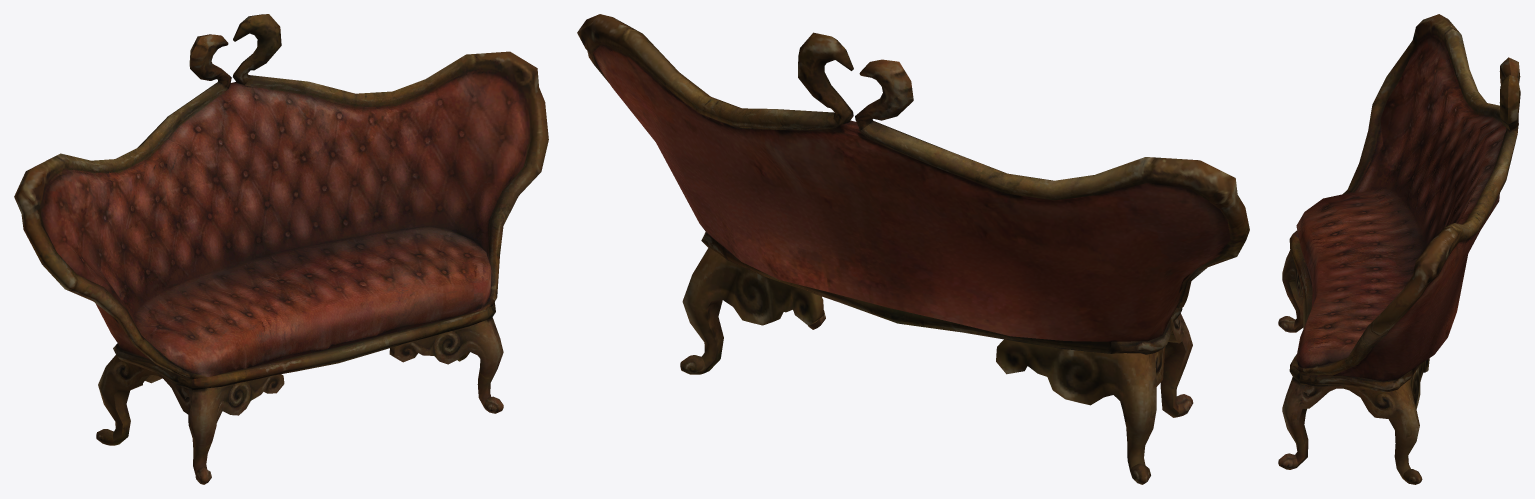
File: Queen Sofa A.obj
3 views of the same model, side by side, from view 1: azimuth 30°, elevation 25°; view 2: azimuth 150°, elevation 25°; view 3: azimuth 270°, elevation 25° (orthographic). The views are drawn at different scales.
Parts seen in each view (by area): view 1: QSofaA; view 2: QSofaA; view 3: QSofaA.
Boxes of the visible parts, left/top/right/bottom form: QSofaA: left=14, top=14, right=548, bottom=484; QSofaA: left=577, top=14, right=1249, bottom=484; QSofaA: left=1278, top=14, right=1520, bottom=484.
Bounding box in the file's own units: 3.77 × 2.39 × 1.57.
1 material, 1 textured.
